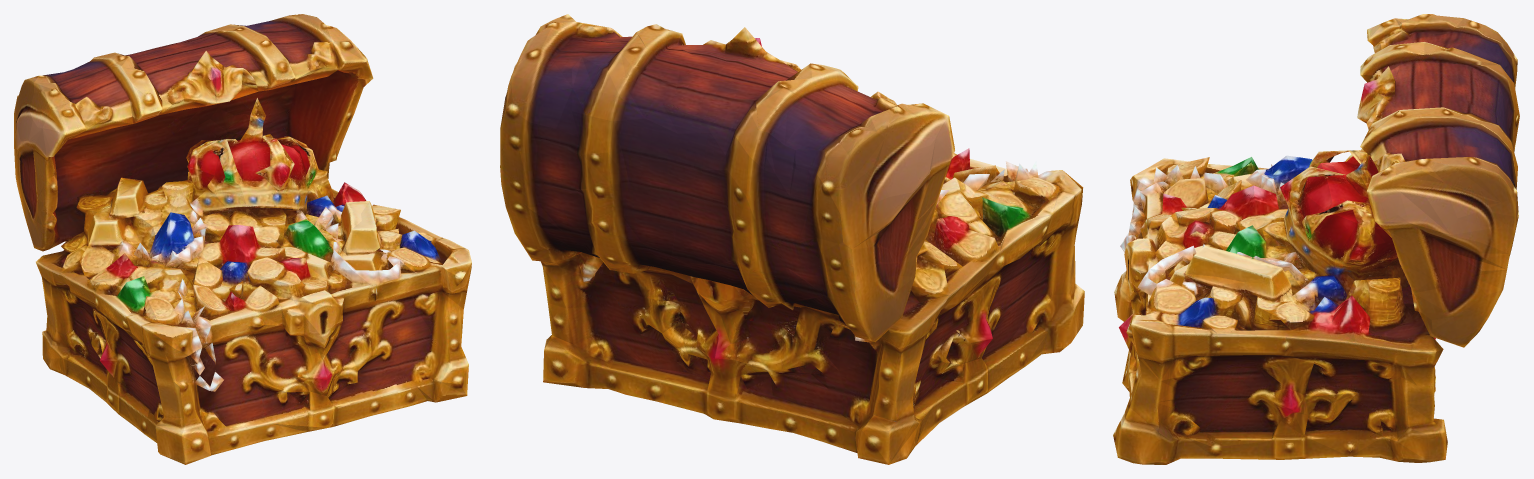
The model's file is chest_low.glb.
3 views of the same model, side by side, from view 1: azimuth 30°, elevation 25°; view 2: azimuth 150°, elevation 25°; view 3: azimuth 270°, elevation 25° (orthographic). The views are drawn at different scales.
Size of the model in its own units: 1 by 0.8735 by 0.9893.
Materials: 1 (1 with a texture image).
